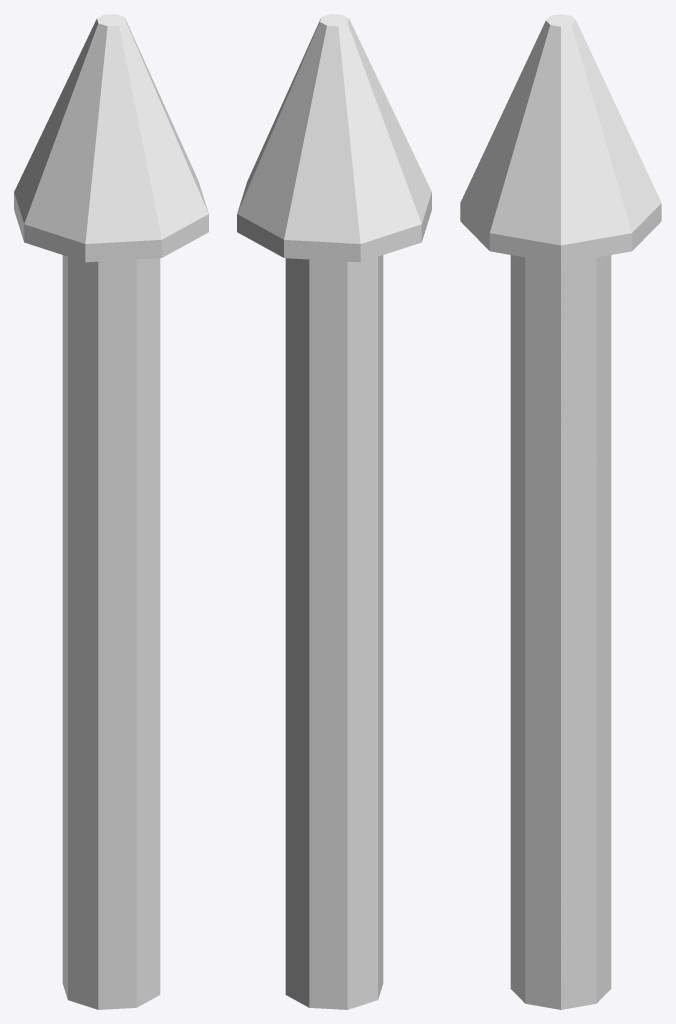
The model's file is unit_arrow.obj.
3 renders of one model, left to right at view 1: azimuth 30°, elevation 25°; view 2: azimuth 150°, elevation 25°; view 3: azimuth 270°, elevation 25°, orthographic.
Parts seen in each view (by area): view 1: Cylinder; view 2: Cylinder; view 3: Cylinder.
Boxes of the visible parts, bbox=[...] form: Cylinder: bbox=[14, 14, 208, 1009]; Cylinder: bbox=[237, 14, 431, 1009]; Cylinder: bbox=[460, 14, 661, 1009].
Bounding box in the file's own units: 0.1886 × 1 × 0.1886.
Materials: 1 (1 with a texture image).
